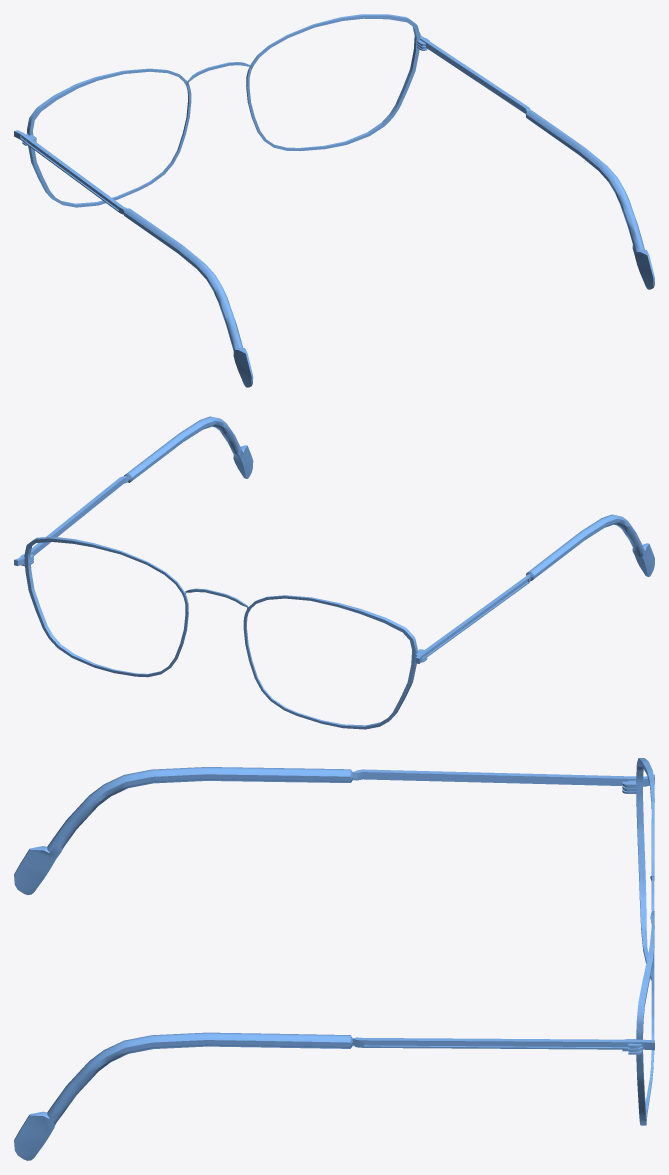
The picture shows the model from 3 angles, top to bottom: view 1: azimuth 30°, elevation 25°; view 2: azimuth 150°, elevation 25°; view 3: azimuth 270°, elevation 25°; orthographic projection. The views are drawn at different scales.
Parts seen in each view (by area): view 1: 6; view 2: 6; view 3: 6.
Part boxes in pixels (left/top/right/bottom): 6: left=14, top=14, right=654, bottom=387; 6: left=14, top=416, right=654, bottom=729; 6: left=14, top=758, right=654, bottom=1160.
Bounding box in the file's own units: 15.05 × 4.39 × 15.03.
